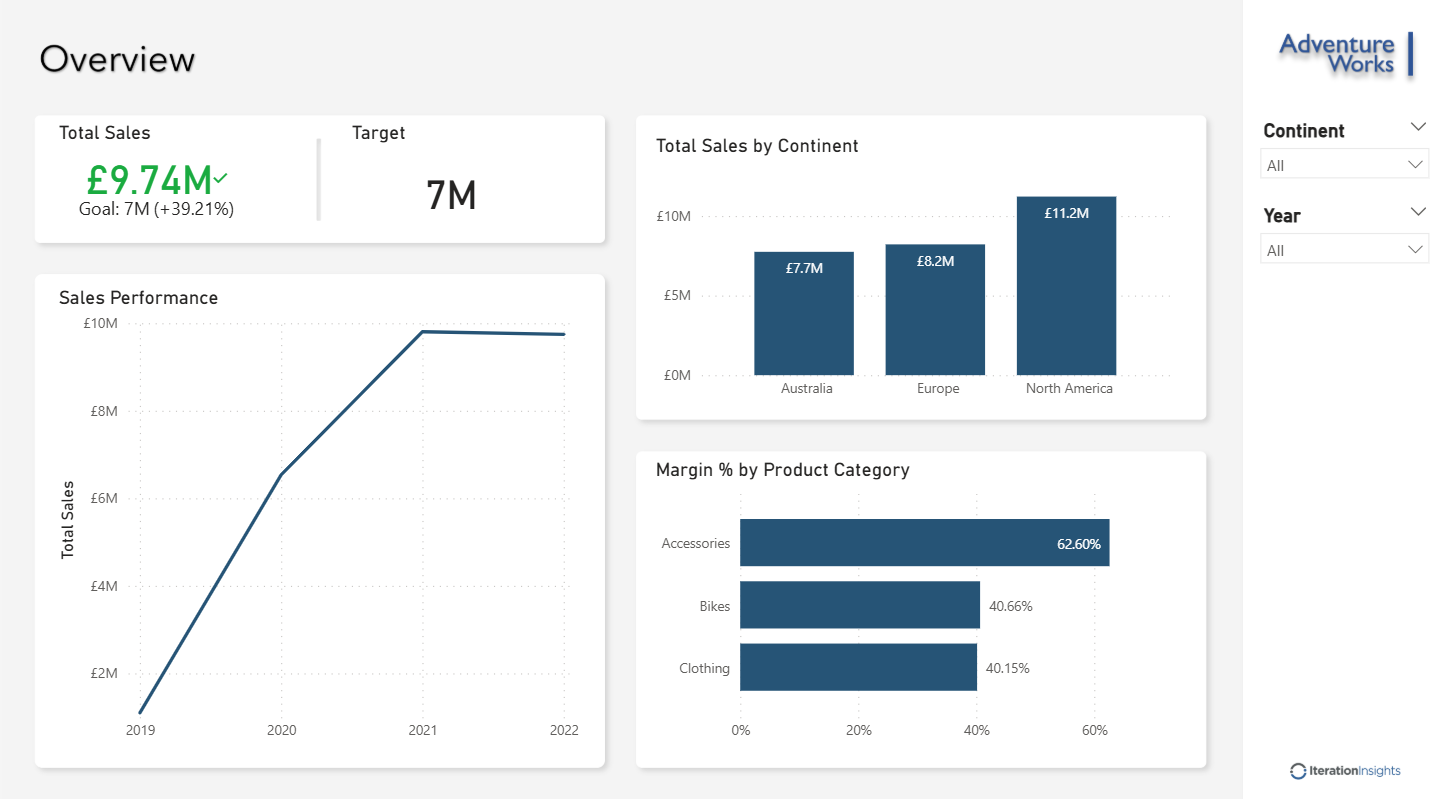

What the dashboard file says about the page in this screenshot:
{"tool":"powerbi","page":{"name":"Overview","canvas":[1280,720],"ordinal":0},"visuals":[{"type":"clusteredColumnChart","title":"Total Sales by Continent","fields":{"Category":["Sales Territory.Sale Territory Continent"],"Y":["Sales.Total Sales"]},"box":[579,125,470,243.8],"z":0},{"type":"clusteredBarChart","title":"Margin % by Product Category","fields":{"Category":["Product.Product Hierarchy.Product Category","Product.Product Hierarchy.Product Subcategory"],"Y":["Sales.Total Margin %"]},"box":[579,412.3,470,259.8],"z":1},{"type":"lineChart","title":"Sales Performance","fields":{"Y":["Sales.Total Sales"],"Category":["Order Date.Order Date Hierarchy.Order Date Year","Order Date.Order Date Hierarchy.Order Date Month","Order Date.Order Date Hierarchy.Order Date"]},"box":[49.7,259.8,470.8,412.3],"z":2},{"type":"kpi","title":"Total Sales","fields":{"Indicator":["Sales.Total Sales"],"TrendLine":["Order Date.Order Date Year"],"Goal":["Sales.Target"]},"box":[49.7,113.5,183.5,104.6],"z":3},{"type":"card","title":"Target","fields":{"Values":["Sales.Target"]},"box":[309.5,113.5,186.2,104.6],"z":4},{"type":"slicer","fields":{"Values":["Sales Territory.Sale Territory Continent"]},"box":[1110.1,106.4,170.2,70],"z":5},{"type":"slicer","fields":{"Values":["Order Date.Order Date Year"]},"box":[1110.1,181.8,170.2,78],"z":6}]}

Visuals, with their boxes in screenshot pixels (x1, y1, x2, y2), scaled from the page's 1280x720 canvas onto the 1437x799 screenshot:
"Total Sales by Continent" clusteredColumnChart: x1=650 y1=139 x2=1178 y2=409
"Margin % by Product Category" clusteredBarChart: x1=650 y1=458 x2=1178 y2=746
"Sales Performance" lineChart: x1=56 y1=288 x2=584 y2=746
"Total Sales" kpi: x1=56 y1=126 x2=262 y2=242
"Target" card: x1=347 y1=126 x2=557 y2=242
slicer - Sales Territory.Sale Territory Continent: x1=1246 y1=118 x2=1436 y2=196
slicer - Order Date.Order Date Year: x1=1246 y1=202 x2=1436 y2=288
